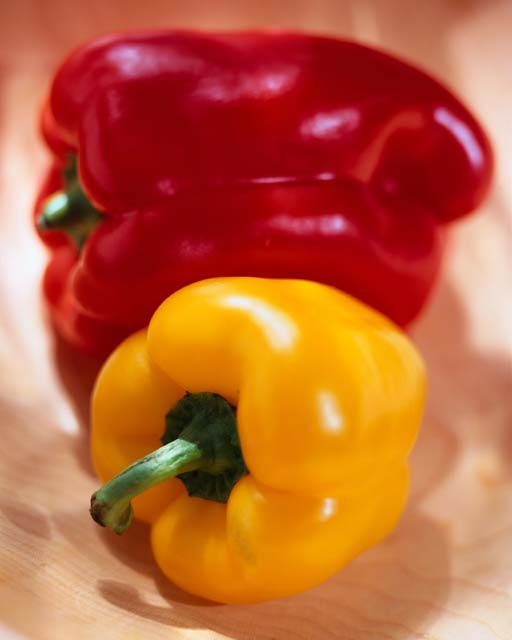capsicum: (27, 24, 494, 356), (96, 272, 432, 600)
